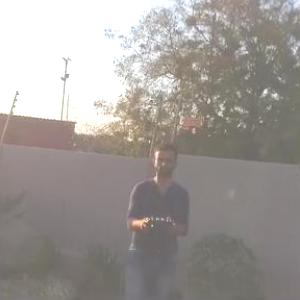follow: (124, 128, 193, 299)
